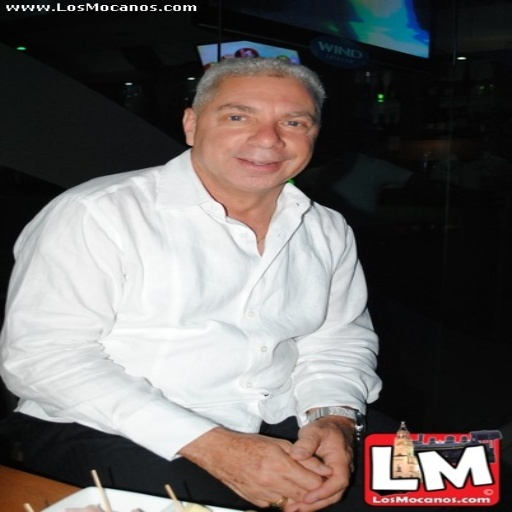hand: (178, 424, 341, 494), (280, 415, 355, 510)
